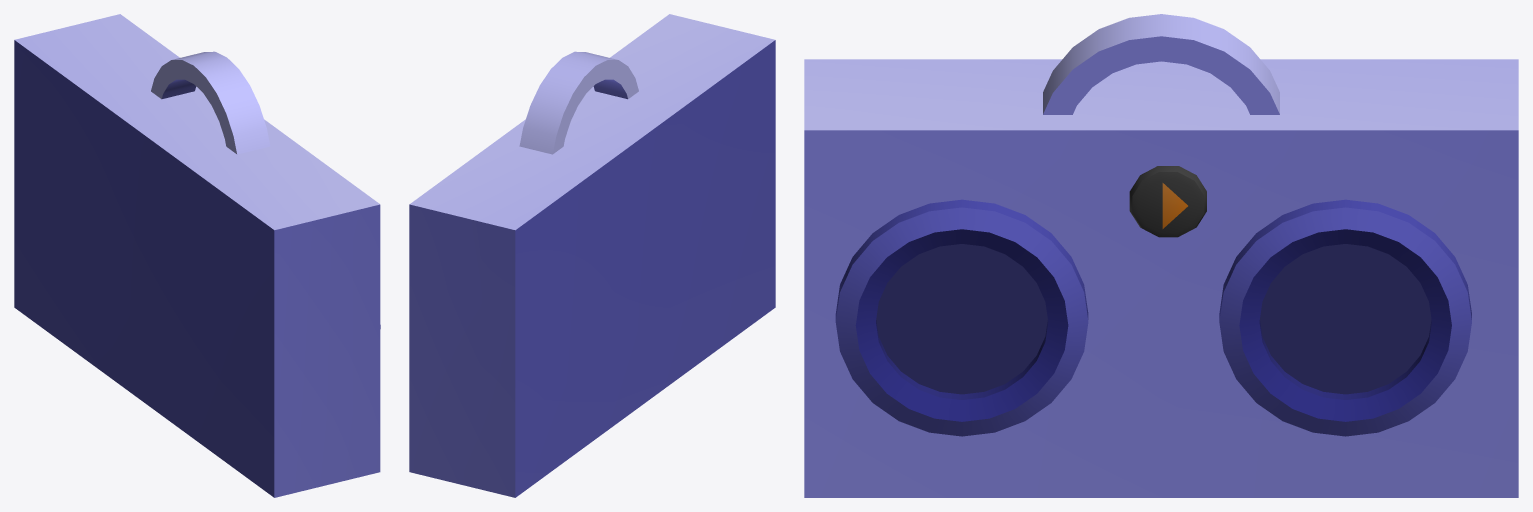
The model's file is MusicBox.fbx.
The picture shows the model from 3 angles, left to right: view 1: azimuth 30°, elevation 25°; view 2: azimuth 150°, elevation 25°; view 3: azimuth 270°, elevation 25°; orthographic projection. The views are drawn at different scales.
Visible parts, largest first — view 1: MusicBox; view 2: MusicBox; view 3: MusicBox.
Boxes of the visible parts, x1=… form: MusicBox: x1=14, y1=14, x2=380, y2=497; MusicBox: x1=409, y1=14, x2=775, y2=497; MusicBox: x1=804, y1=14, x2=1518, y2=497.
Size of the model in its own units: 77.17 by 195 by 283.
